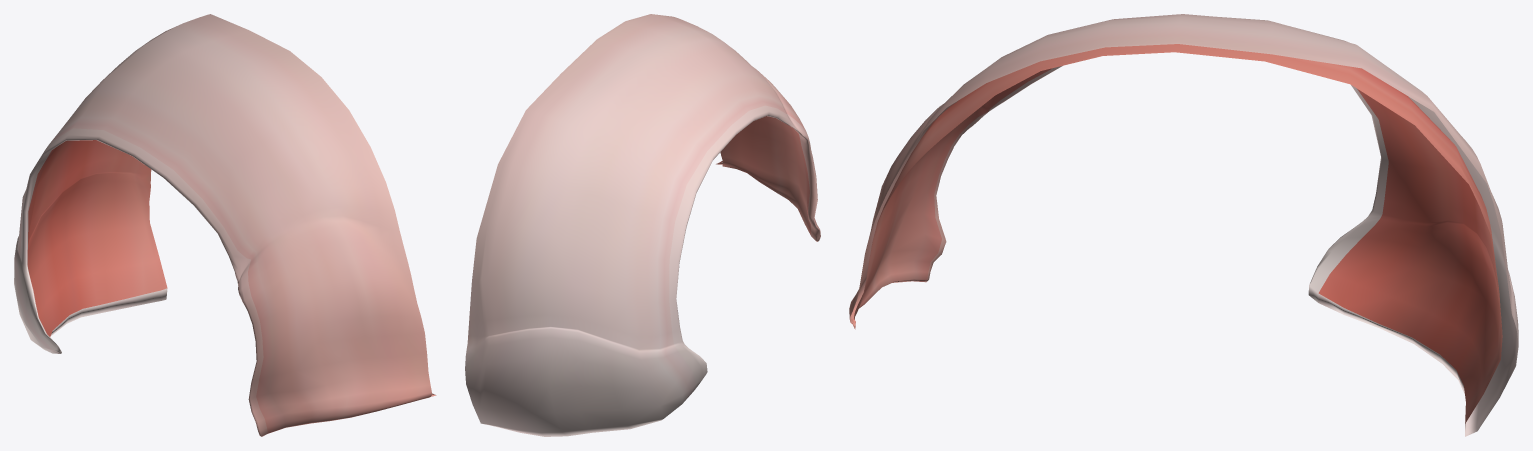
Rendered from Frontalis_Muscle_Right.obj.
The picture shows the model from 3 angles, left to right: view 1: azimuth 30°, elevation 25°; view 2: azimuth 150°, elevation 25°; view 3: azimuth 270°, elevation 25°; orthographic projection. The views are drawn at different scales.
Parts seen in each view (by area): view 1: Frontalis_Muscle:Frontalis_Muscle_Left_Mesh Frontalis_Muscle:gro; view 2: Frontalis_Muscle:Frontalis_Muscle_Left_Mesh Frontalis_Muscle:gro; view 3: Frontalis_Muscle:Frontalis_Muscle_Left_Mesh Frontalis_Muscle:gro.
Part boxes in pixels (x1,y1,x2,y2): Frontalis_Muscle:Frontalis_Muscle_Left_Mesh Frontalis_Muscle:gro: [14, 14, 436, 436]; Frontalis_Muscle:Frontalis_Muscle_Left_Mesh Frontalis_Muscle:gro: [465, 14, 820, 436]; Frontalis_Muscle:Frontalis_Muscle_Left_Mesh Frontalis_Muscle:gro: [849, 14, 1518, 436].
Size of the model in its own units: 0.9226 by 1.53 by 2.37.
